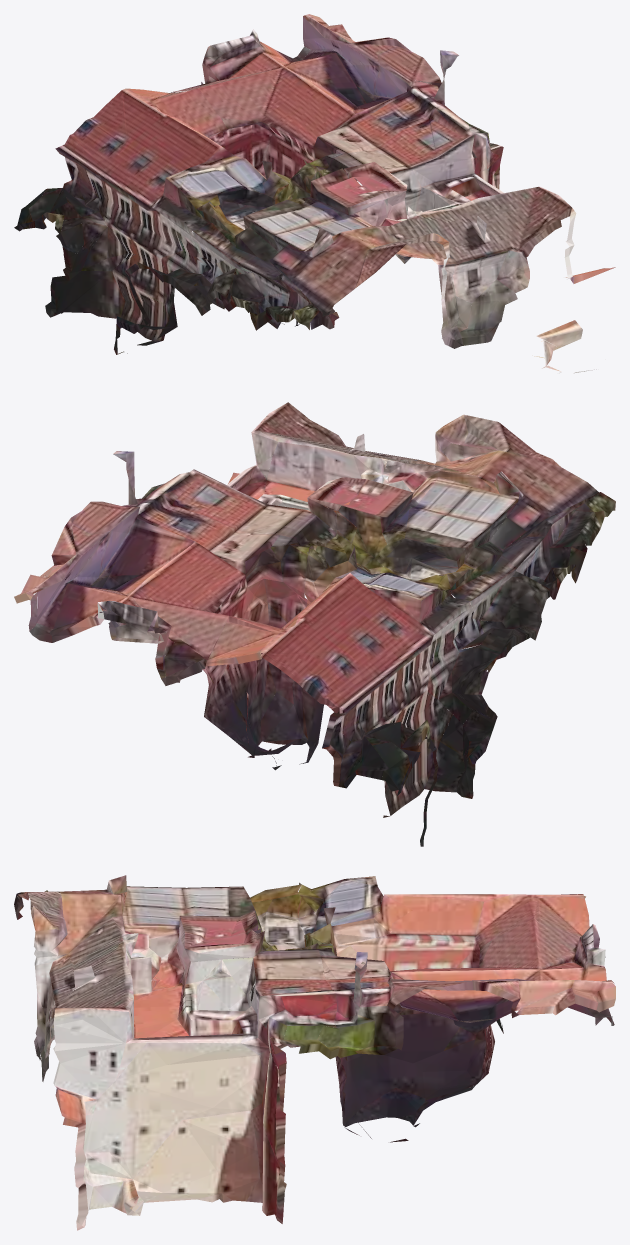
3 renders of one model, top to bottom at view 1: azimuth 30°, elevation 25°; view 2: azimuth 150°, elevation 25°; view 3: azimuth 270°, elevation 25°, orthographic. The views are drawn at different scales.
Visible parts, largest first — view 1: Mesh_0; view 2: Mesh_0; view 3: Mesh_0.
Boxes of the visible parts, x1,y1,x2,y2 form: Mesh_0: [14, 14, 615, 373]; Mesh_0: [14, 402, 615, 846]; Mesh_0: [14, 875, 615, 1230].
Bounding box in the file's own units: 33.33 × 19.79 × 41.36.
2 materials, 2 textured.
